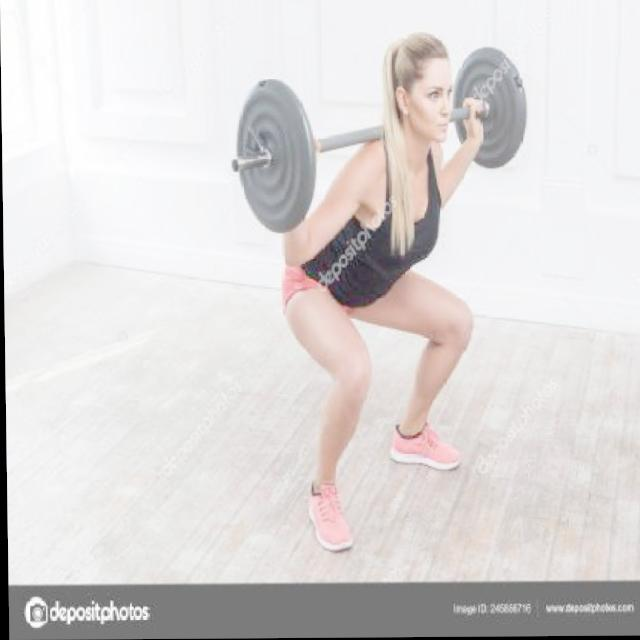barbell: (227, 76, 326, 240)
